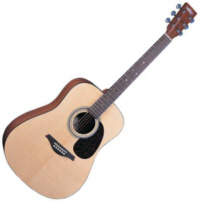guitar: (1, 1, 197, 202)
